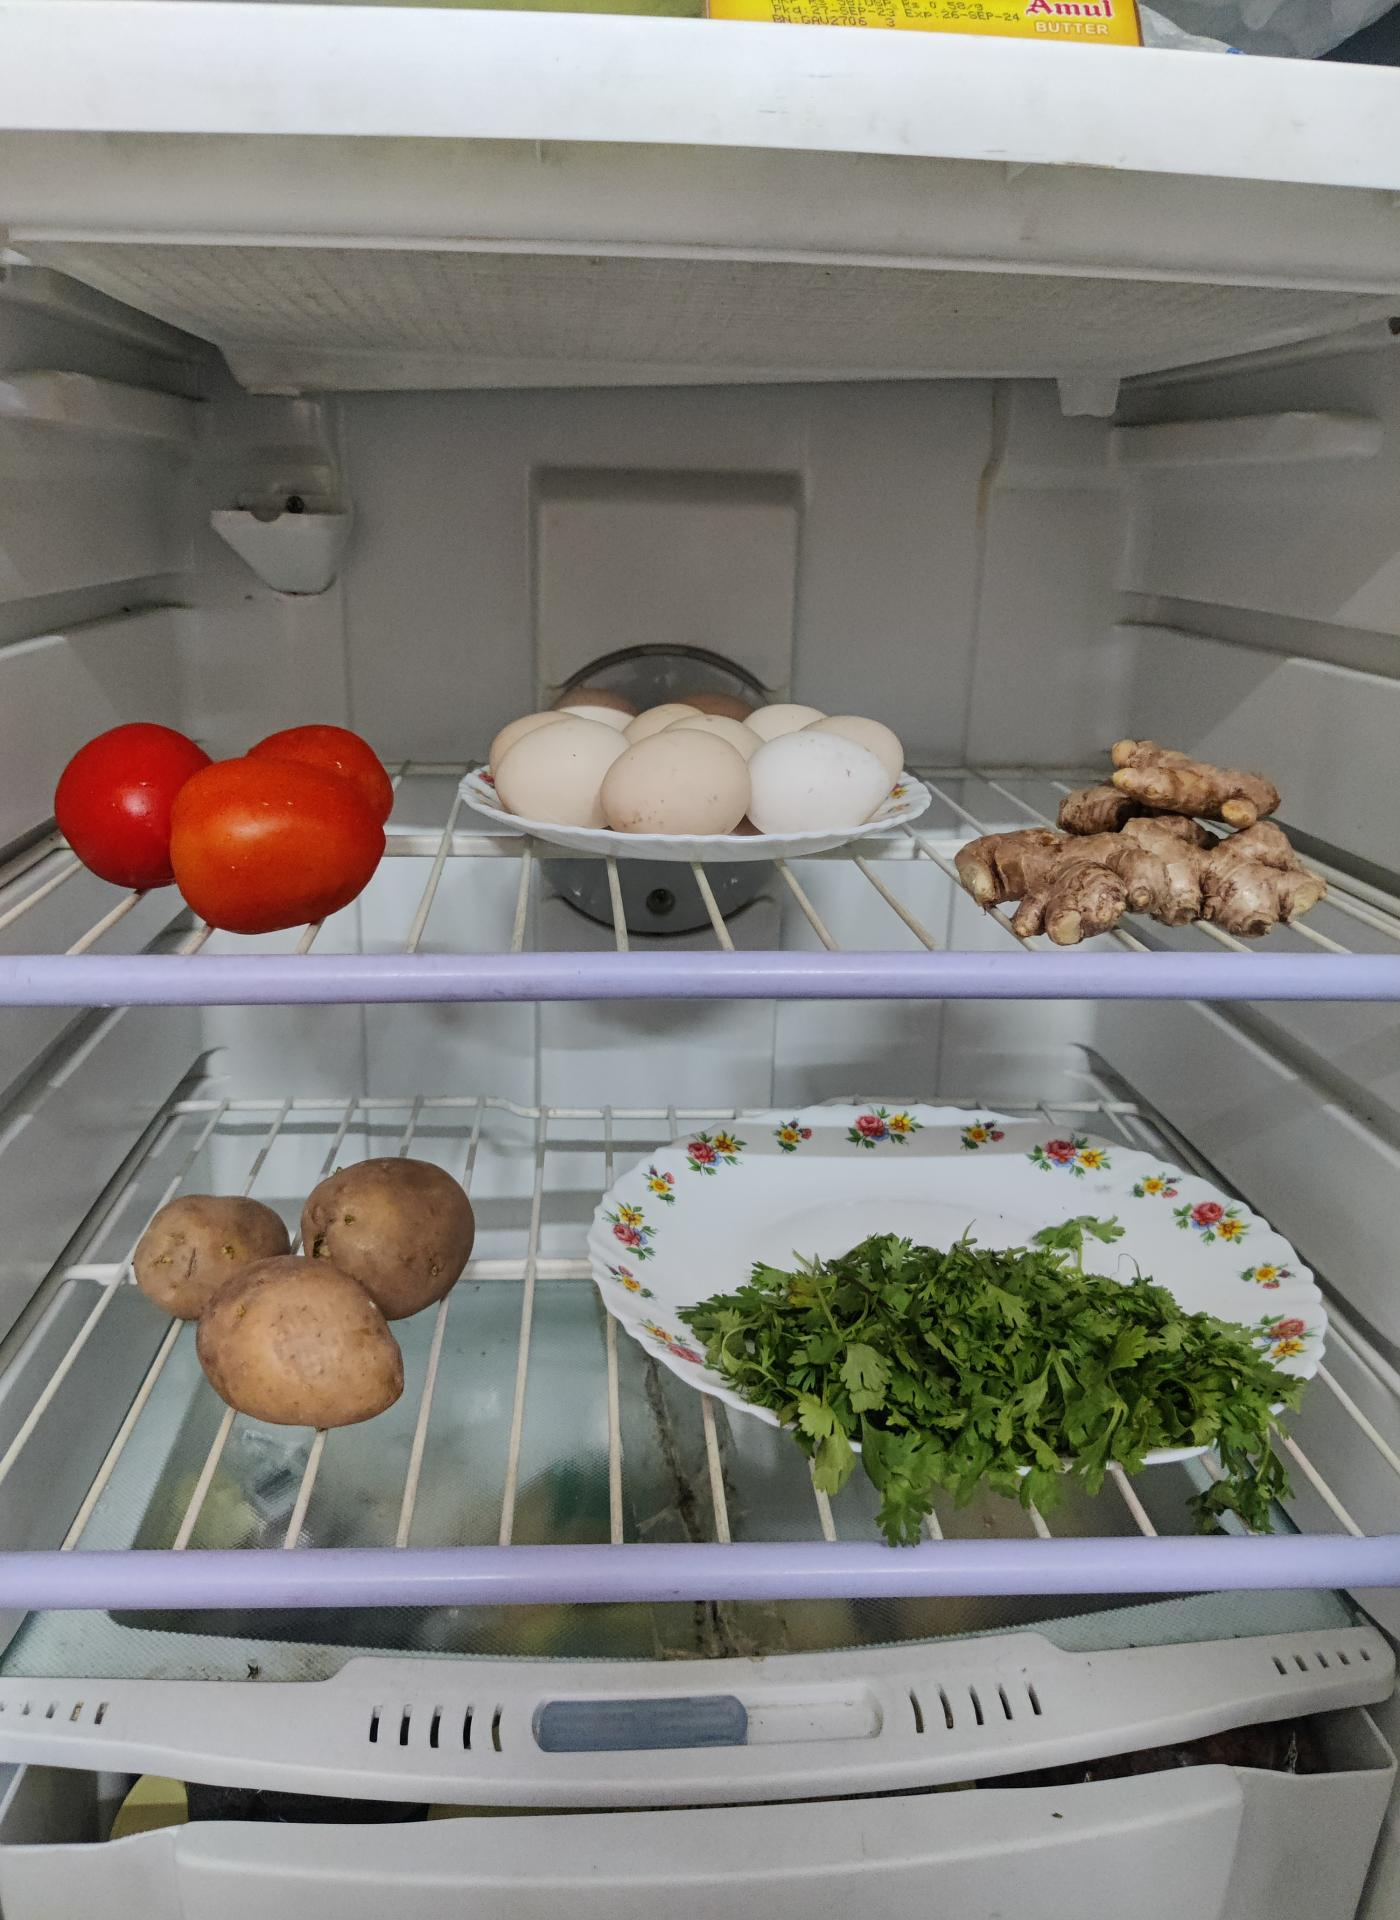coriander: (668, 1226, 1315, 1513)
egg: (478, 692, 915, 862)
ginger: (959, 730, 1324, 946)
potato: (136, 1152, 486, 1429)
tomato: (51, 720, 395, 931)
